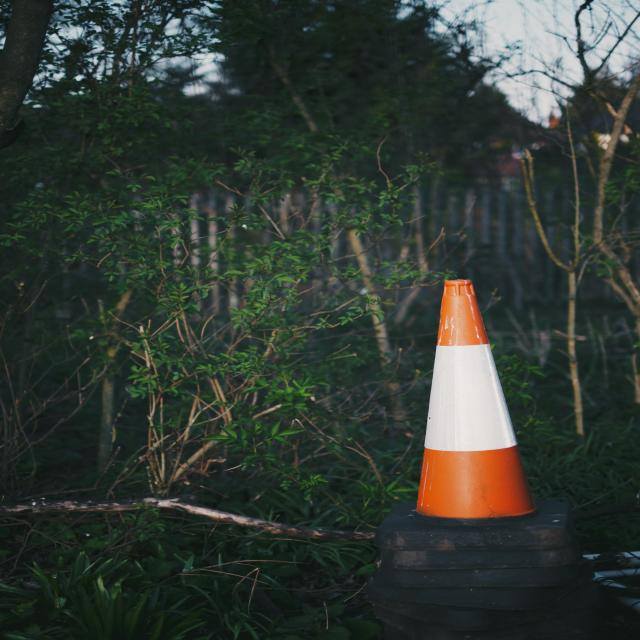Traffic Cone: (343, 258, 591, 544)
